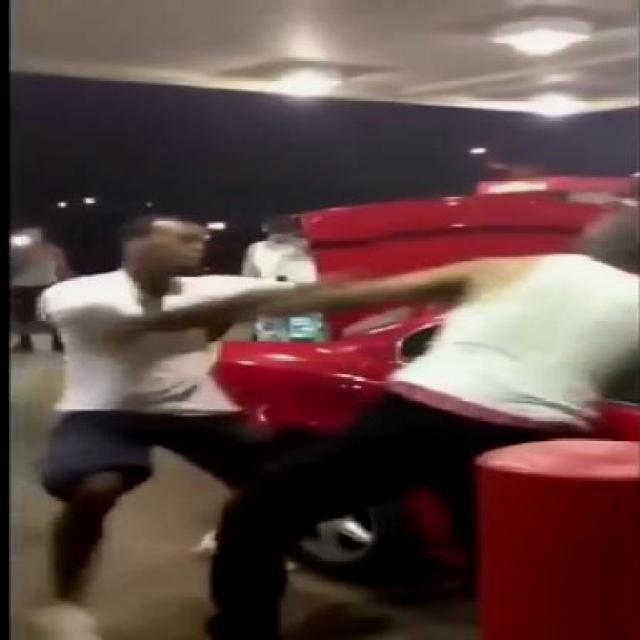fight: (30, 203, 639, 622)
